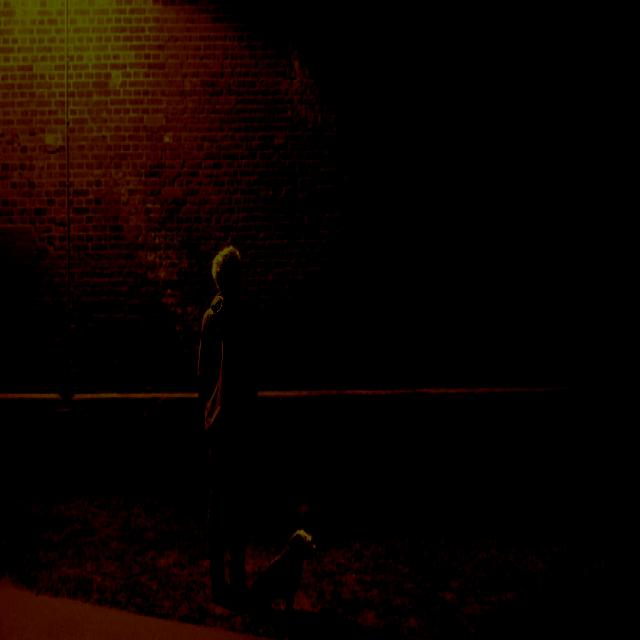Dog: (229, 532, 319, 617)
